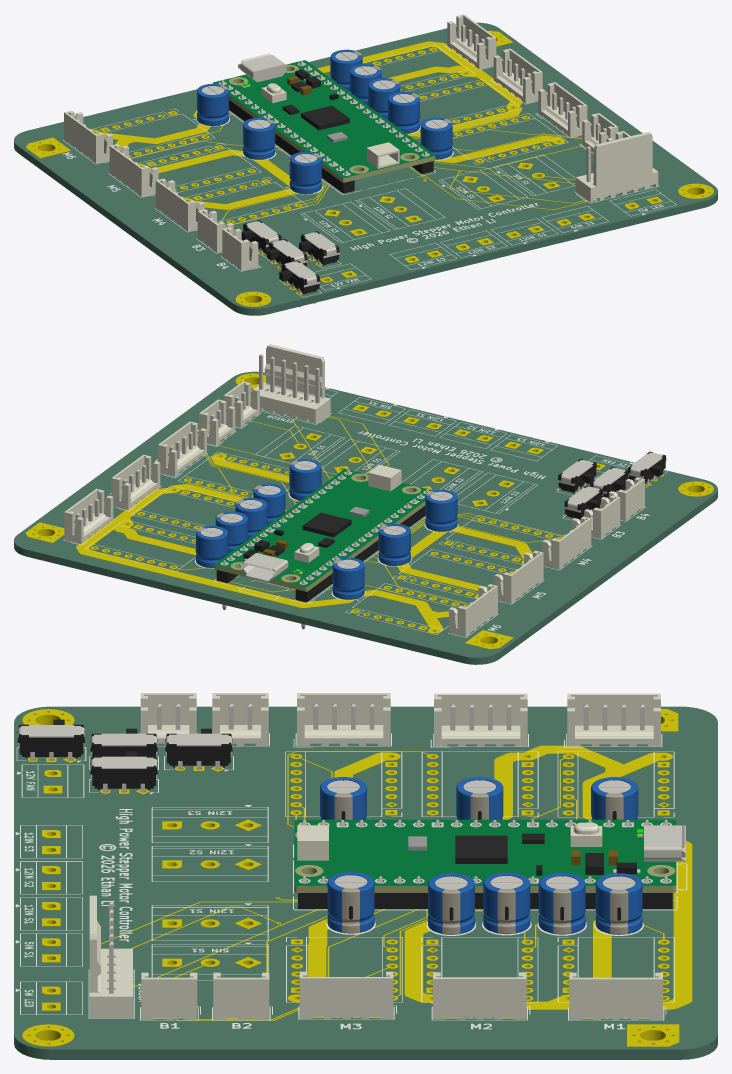
The model's file is compact_stepper_controller.glb.
The picture shows the model from 3 angles, top to bottom: view 1: azimuth 30°, elevation 25°; view 2: azimuth 150°, elevation 25°; view 3: azimuth 270°, elevation 25°; orthographic projection. The views are drawn at different scales.
Parts seen in each view (by area): view 1: =>[0:1:1:19], =>[0:1:1:16], RaspberryPi_Pico_H_Module_KiCad, =>[0:1:1:9] (×6), =>[0:1:1:7] (×8), =>[0:1:1:17], =>[0:1:1:11], =>[0:1:1:3] (×4), =>[0:1:1:5] (×3), RaspberryPi_Pico_H_Header_DIP-40_H2.54mm_KiCad; view 2: =>[0:1:1:19], =>[0:1:1:16], RaspberryPi_Pico_H_Module_KiCad, =>[0:1:1:9] (×6), =>[0:1:1:7] (×8), =>[0:1:1:17], =>[0:1:1:11], =>[0:1:1:5] (×4), =>[0:1:1:3] (×4), RaspberryPi_Pico_H_Header_DIP-40_H2.54mm_KiCad; view 3: =>[0:1:1:19], =>[0:1:1:9] (×6), =>[0:1:1:16], RaspberryPi_Pico_H_Module_KiCad, =>[0:1:1:7] (×8), =>[0:1:1:17], =>[0:1:1:5] (×4), =>[0:1:1:3] (×4), =>[0:1:1:11], RaspberryPi_Pico_H_Header_DIP-40_H2.54mm_KiCad.
Part boxes in pixels (x1,y1,x2,y2): =>[0:1:1:19]: (14,22,717,315); =>[0:1:1:16]: (26,30,713,306); RaspberryPi_Pico_H_Module_KiCad: (213,53,435,182); =>[0:1:1:9] (×6): (64,14,587,231); =>[0:1:1:7] (×8): (197,49,452,193); =>[0:1:1:17]: (62,45,676,297); =>[0:1:1:11]: (575,132,658,202); =>[0:1:1:3] (×4): (241,220,339,307); =>[0:1:1:5] (×3): (197,113,618,270); RaspberryPi_Pico_H_Header_DIP-40_H2.54mm_KiCad: (220,61,433,193); =>[0:1:1:19]: (14,371,717,664); =>[0:1:1:16]: (25,373,713,649); RaspberryPi_Pico_H_Module_KiCad: (214,464,432,591); =>[0:1:1:9] (×6): (64,421,591,637); =>[0:1:1:7] (×8): (195,459,457,599); =>[0:1:1:17]: (63,387,667,637); =>[0:1:1:11]: (251,344,330,424); =>[0:1:1:5] (×4): (199,381,644,538); =>[0:1:1:3] (×4): (558,451,666,519); RaspberryPi_Pico_H_Header_DIP-40_H2.54mm_KiCad: (216,469,429,629); =>[0:1:1:19]: (14,706,717,1059); =>[0:1:1:9] (×6): (297,693,662,1019); =>[0:1:1:16]: (22,709,692,1046); RaspberryPi_Pico_H_Module_KiCad: (294,819,685,892); =>[0:1:1:7] (×8): (320,777,642,934); =>[0:1:1:17]: (15,733,687,1029); =>[0:1:1:5] (×4): (140,693,269,1019); =>[0:1:1:3] (×4): (17,719,232,792); =>[0:1:1:11]: (89,895,132,1018); RaspberryPi_Pico_H_Header_DIP-40_H2.54mm_KiCad: (298,820,672,908).
Size of the model in its own units: 0.1084 by 0.018 by 0.094.
